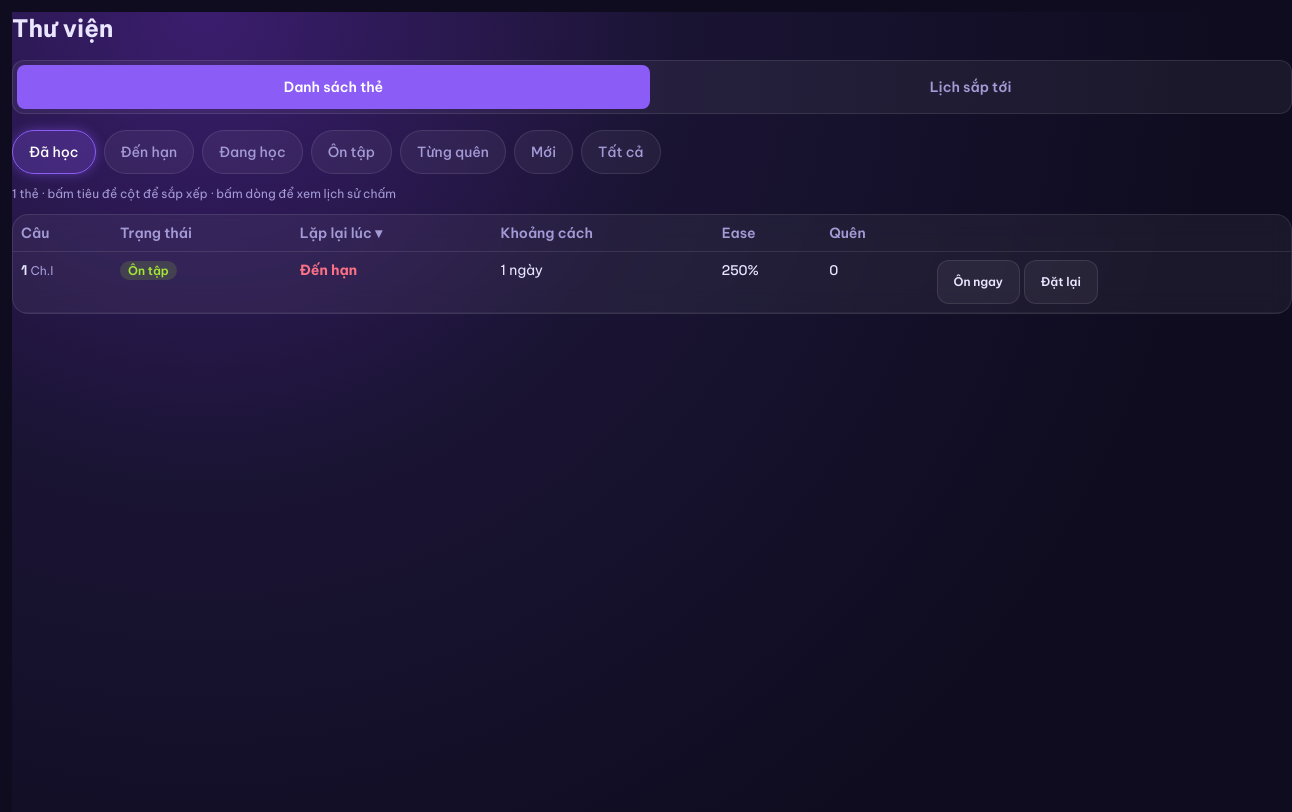
Test: tab lịch sắp tới
Click the button "Lịch sắp tới": x=970, y=87 [654,65,1287,109]
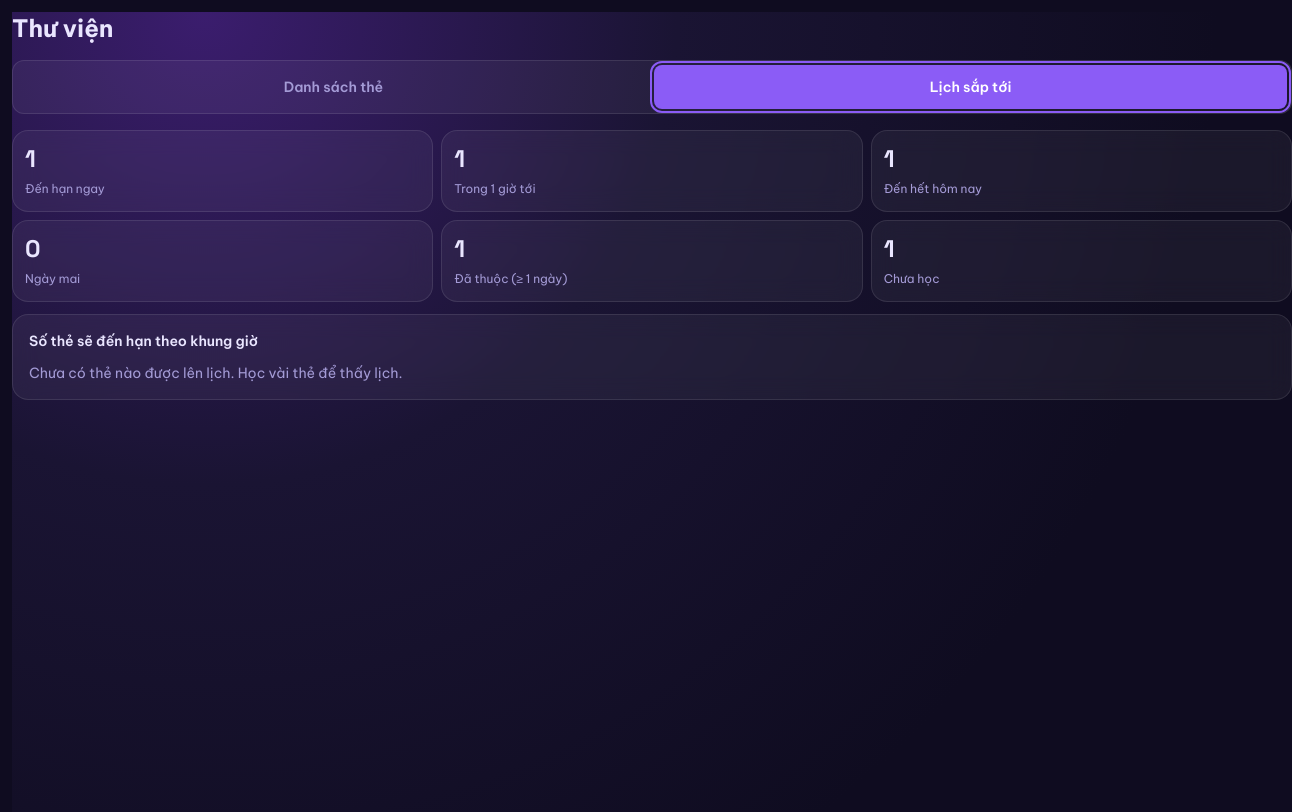
expect the text "Đến hạn ngay" is shown: met, box [25,181,105,196]
expect the text "Chưa học" is shown: met, box [884,271,940,286]
